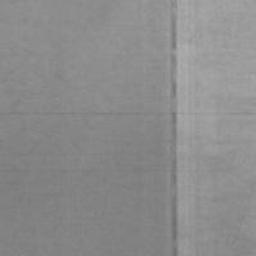Welding line: (168, 0, 179, 256)
